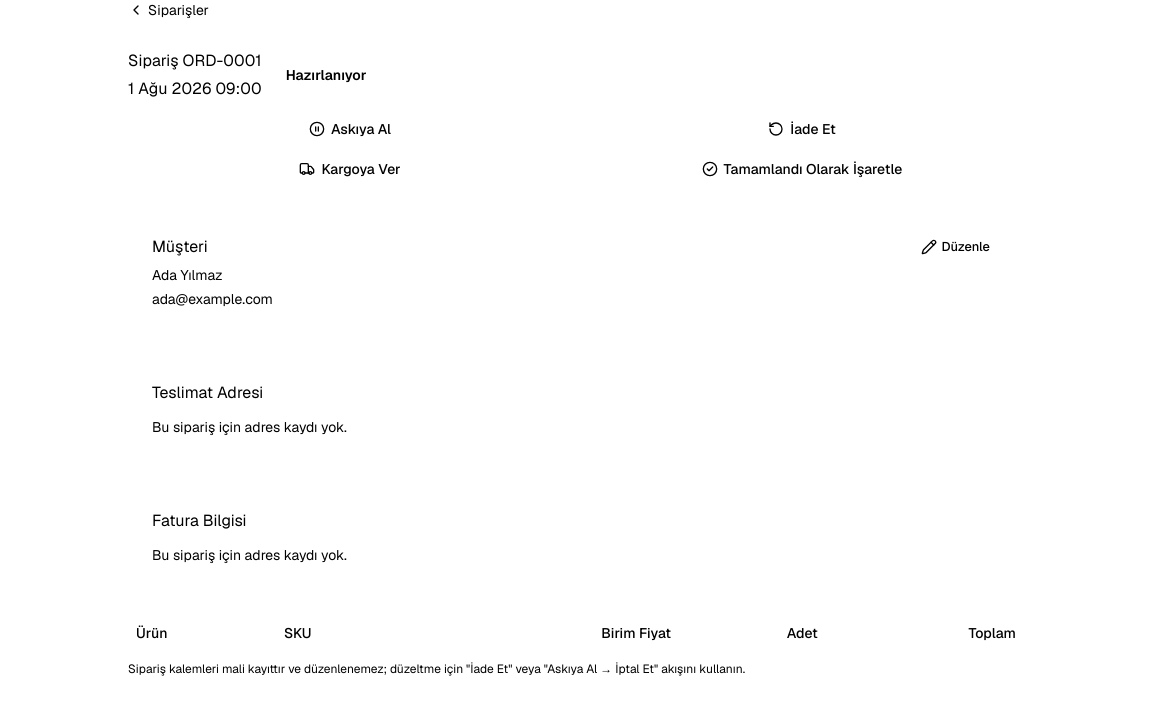
AdminOrderDetailPage — SHIPPED geçişi › kargo takip no boşken formu göndermeye çalışınca 'Kargo takip numarası gerekli.' hatası gösterilir, updateOrderStatus ÇAĞRILMAZ
The width and height of the screenshot is (1152, 720).
Expected: the heading "Sipariş ORD-0001" is shown, [128,49,262,73]
Click the button "Kargoya Ver": point(350, 169) [128,153,572,185]
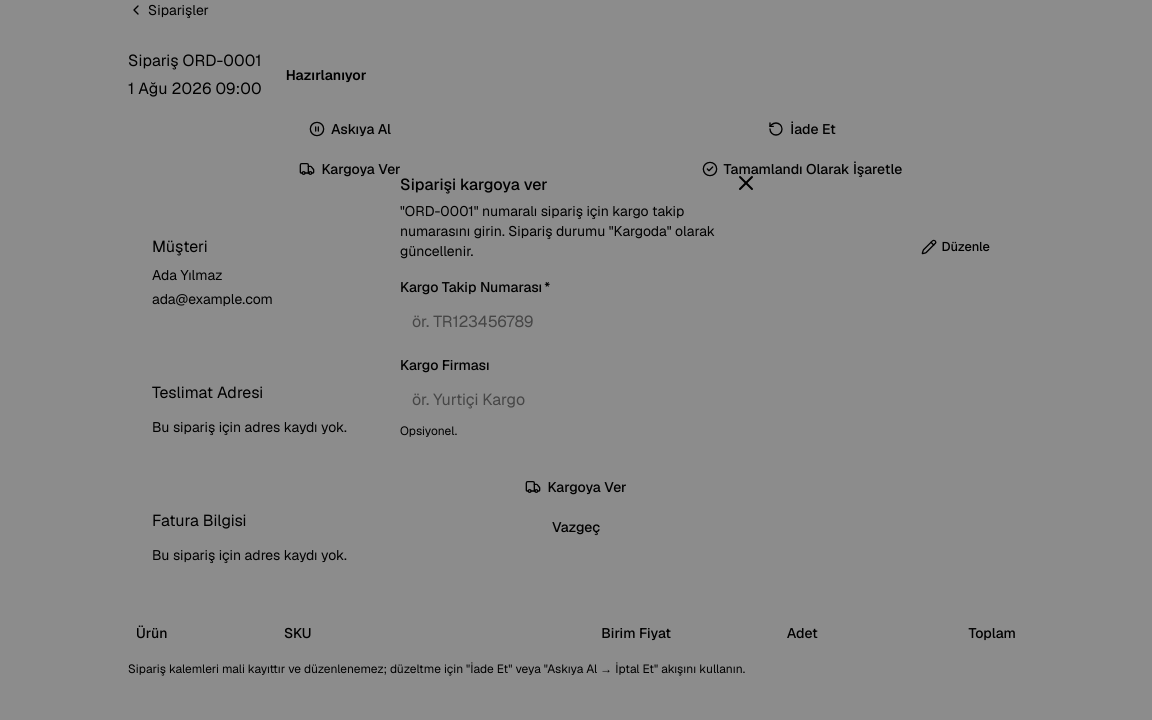
Dialog içindeki gönder butonu — header'daki "Kargoya Ver" ile aynı isimde, dialog'a scope'lu sorgu.
Click the button "Kargoya Ver": point(576, 487) [400,471,752,503]
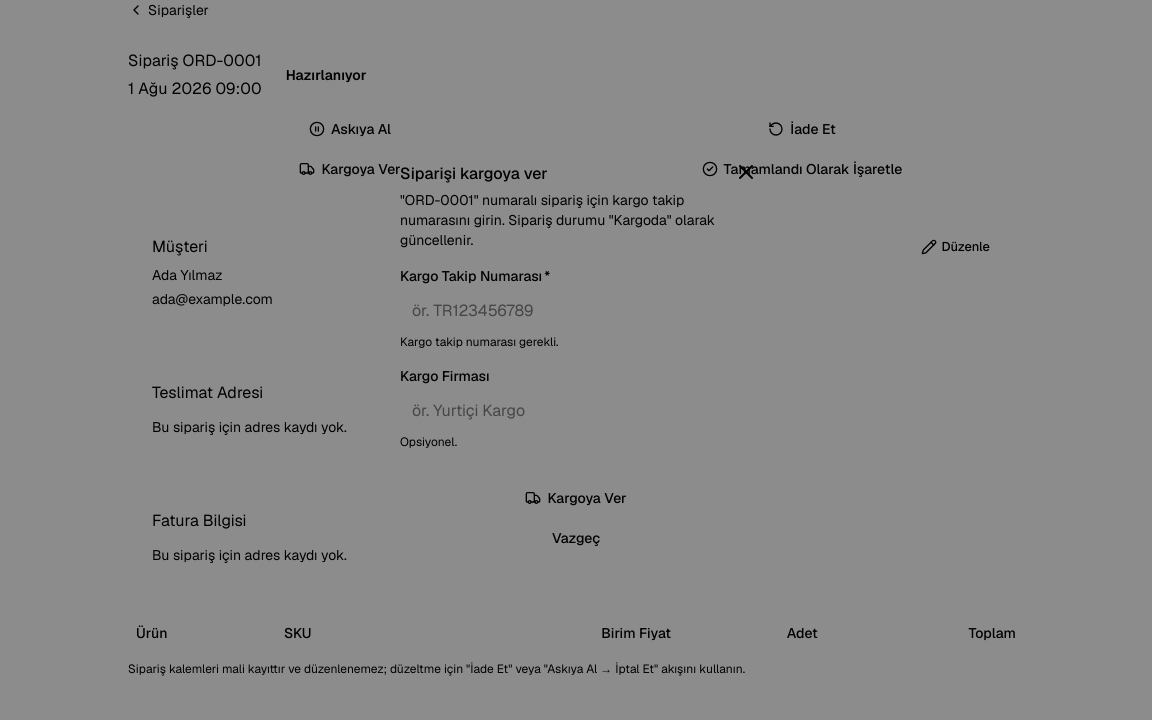
Expected: the text "Kargo takip numarası gerekli." is shown, [400,334,558,350]
